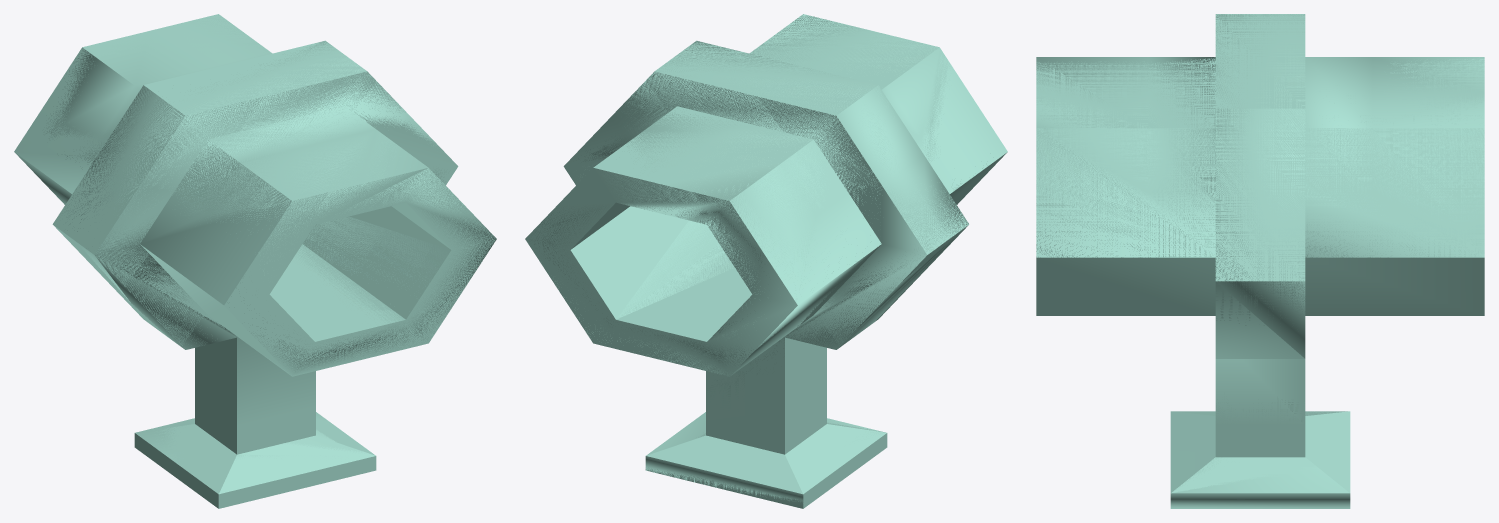
Rendered from space-kit__pipe_ringHigh.glb.
3 renders of one model, left to right at view 1: azimuth 30°, elevation 25°; view 2: azimuth 150°, elevation 25°; view 3: azimuth 270°, elevation 25°, orthographic. The views are drawn at different scales.
Parts seen in each view (by area): view 1: L0_accent, L1_accent; view 2: L0_accent, L1_accent; view 3: L0_accent, L1_accent.
Boxes of the visible parts, x1=… form: L0_accent: x1=14, y1=14, x2=496, y2=508; L1_accent: x1=46, y1=15, x2=496, y2=508; L0_accent: x1=525, y1=14, x2=1007, y2=508; L1_accent: x1=526, y1=14, x2=982, y2=508; L0_accent: x1=1036, y1=14, x2=1484, y2=493; L1_accent: x1=1036, y1=14, x2=1484, y2=508.
Bounding box in the file's own units: 1 × 1 × 1.
